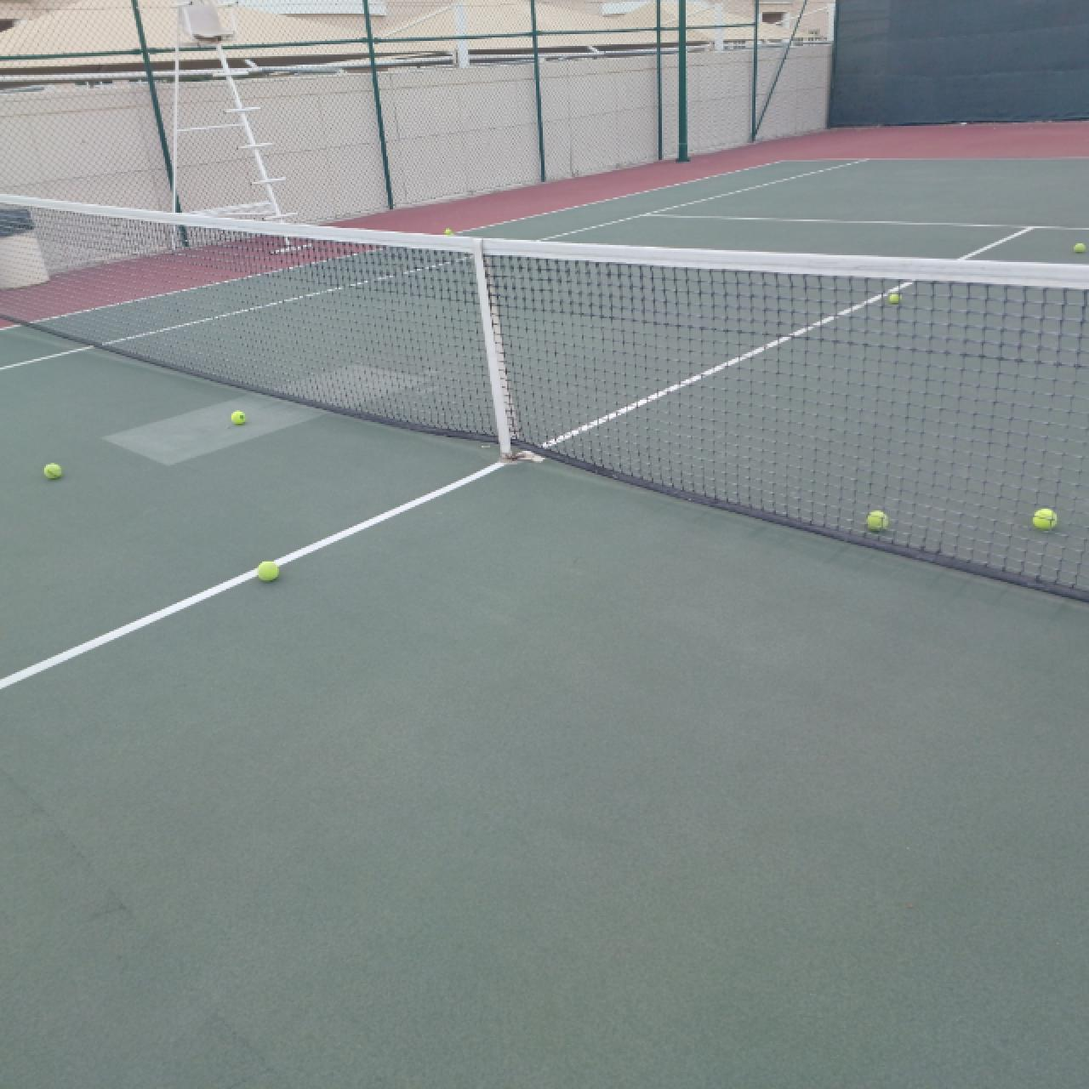tennis-ball: (1031, 507, 1058, 532), (865, 510, 890, 533), (257, 560, 280, 584), (43, 462, 63, 481), (231, 409, 247, 426), (887, 290, 904, 306), (1073, 242, 1087, 255), (443, 227, 454, 237)
